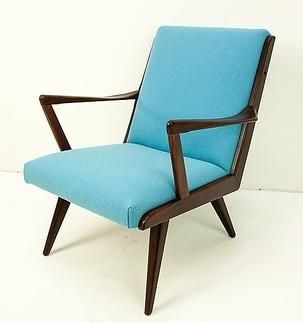obstacle: (24, 26, 274, 314)
